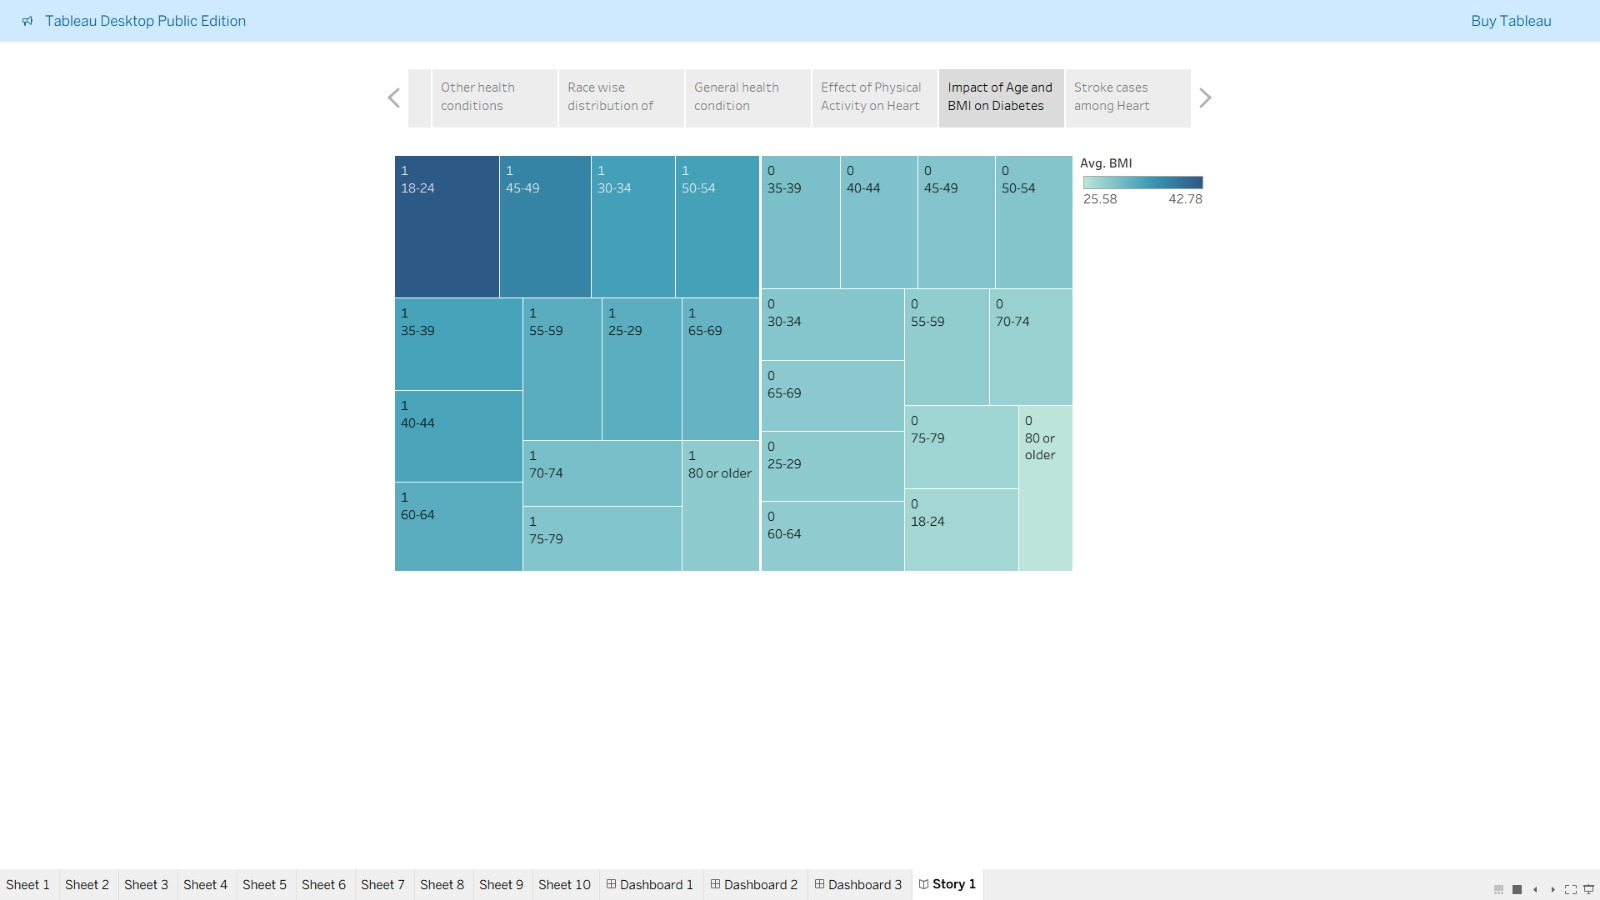

What the dashboard file says about the page in this screenshot:
{"tool":"tableau","page":{"name":"Dashboard 3","canvas":[1000,1000],"units":"permille","ordinal":2},"visuals":[{"type":"title","box":[4.8,10,990.3,125]},{"type":"worksheet","title":"Sheet 9","mark":"Automatic","box":[4.8,135,532.5,815.1]},{"type":"worksheet","title":"Sheet 10","mark":"Automatic","rows":["BMI"],"cols":["HeartDisease","Diabetic","AgeCategory"],"box":[537.4,135,457.8,855]},{"type":"legend","title":"Sheet 9","param":"[federated.16wzaki1bai31r1ebjb7l0oag64c].[avg:BMI:qk]","box":[4.8,950.1,532.5,40]}]}

Visuals, with their boxes on the dashboard's canvas, which has no fixed pixel size, in thousandths of its width and height (x1, y1, x2, y2). These are canvas units, not pixel positions in the 1600x900 screenshot, which may show the page scaled, cropped or inside an application window:
title: {"left": 5, "top": 10, "right": 995, "bottom": 135}
"Sheet 9" worksheet: {"left": 5, "top": 135, "right": 537, "bottom": 950}
"Sheet 10" worksheet: {"left": 537, "top": 135, "right": 995, "bottom": 990}
"Sheet 9" legend: {"left": 5, "top": 950, "right": 537, "bottom": 990}
